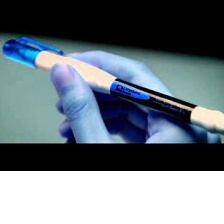correction_fluid: (0, 35, 224, 141)
